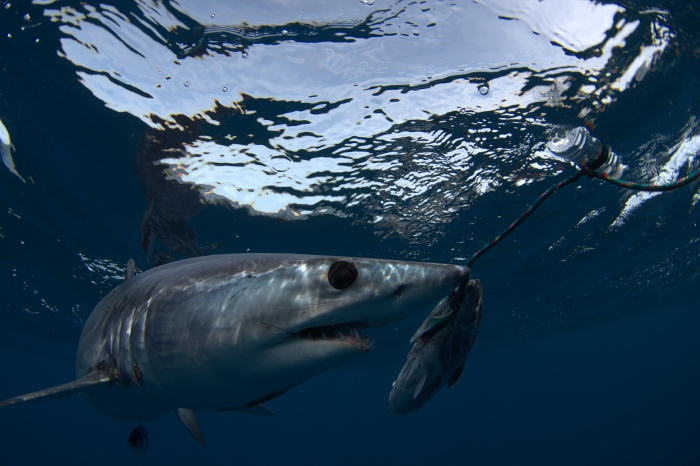Mako: (1, 230, 492, 453)
